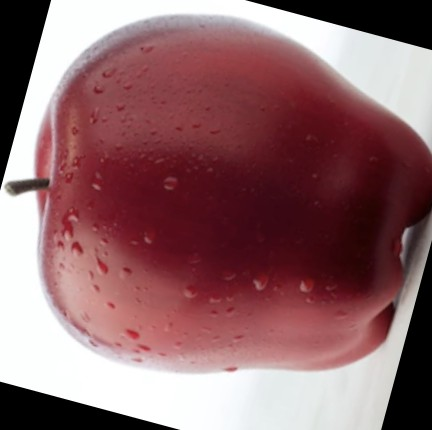fresh_apple: (35, 14, 432, 375)
